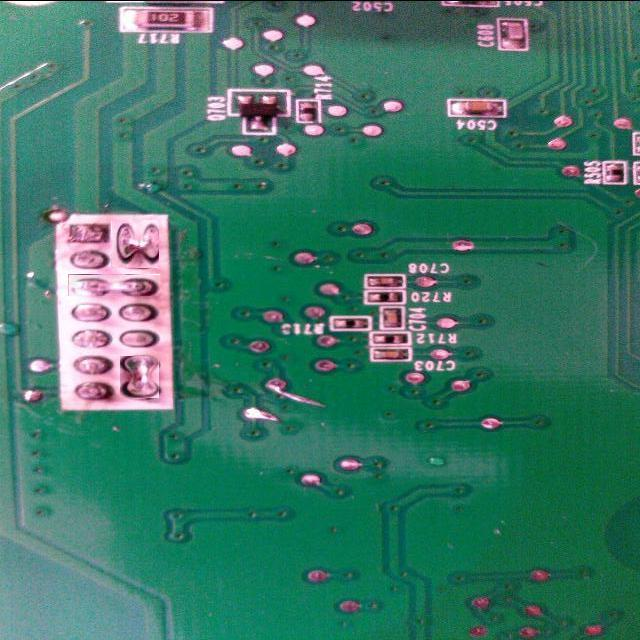Short_circuit: (112, 220, 160, 268), (68, 274, 160, 296), (120, 355, 160, 398)
